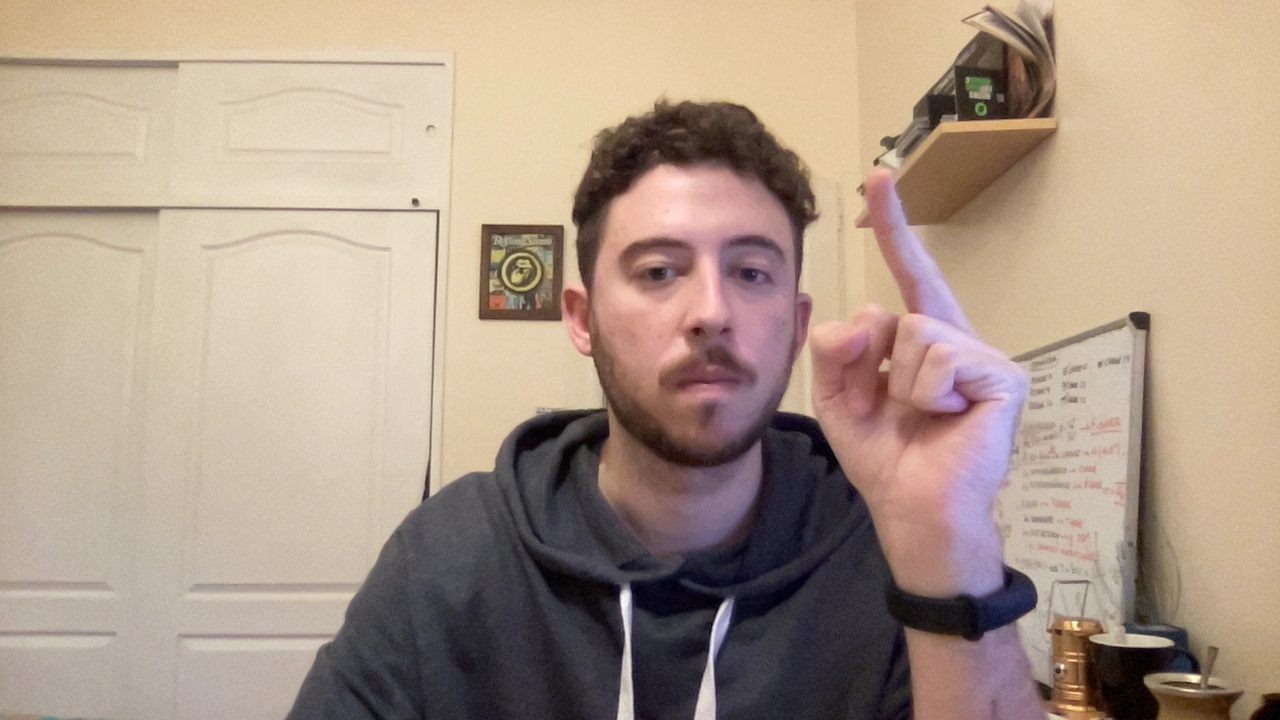mayor: (796, 169, 1044, 517)
